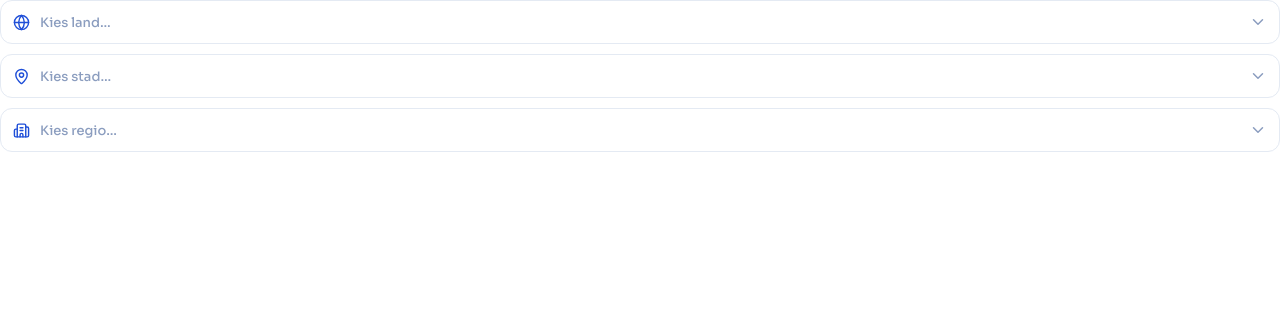
Test: ScopePicker — choosing where to search › summarises the closed field by name for one country and by count for several
The width and height of the screenshot is (1280, 315).
Click the dropdown with test id "scope-country" at (640, 22), box [40, 14, 1239, 30]
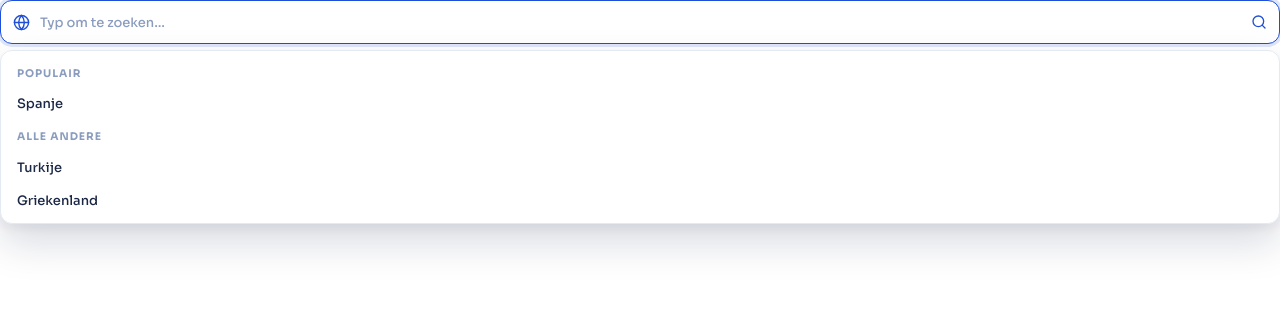
Click the option "Turkije" at (39, 167), box [7, 151, 1273, 184]
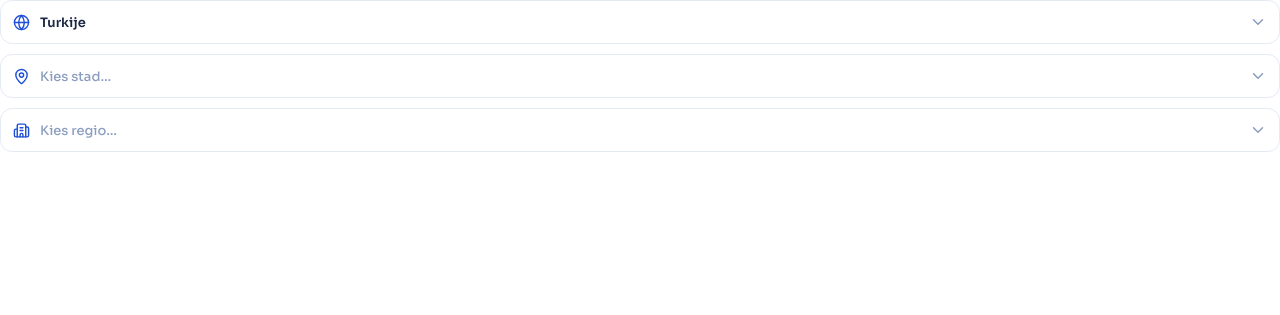
Expected: the dropdown with test id "scope-country" holds "Turkije"
Click the dropdown with test id "scope-country" at (640, 22), box [40, 14, 1239, 30]
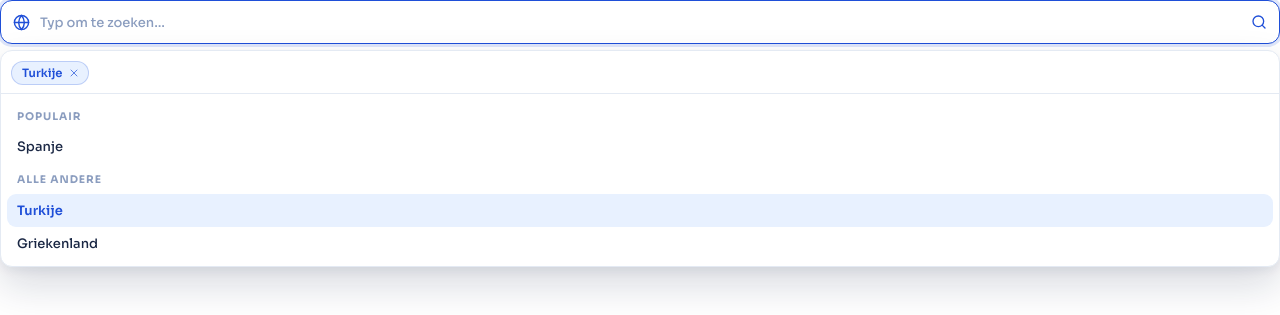
Click the option "Spanje" at (40, 147), box [7, 130, 1273, 163]
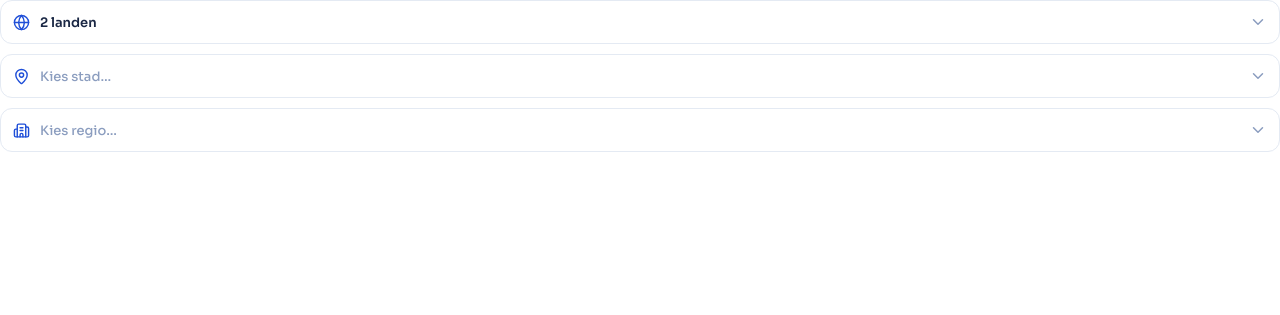
Expected: the dropdown with test id "scope-country" holds "2 landen", [40, 14, 1239, 30]
